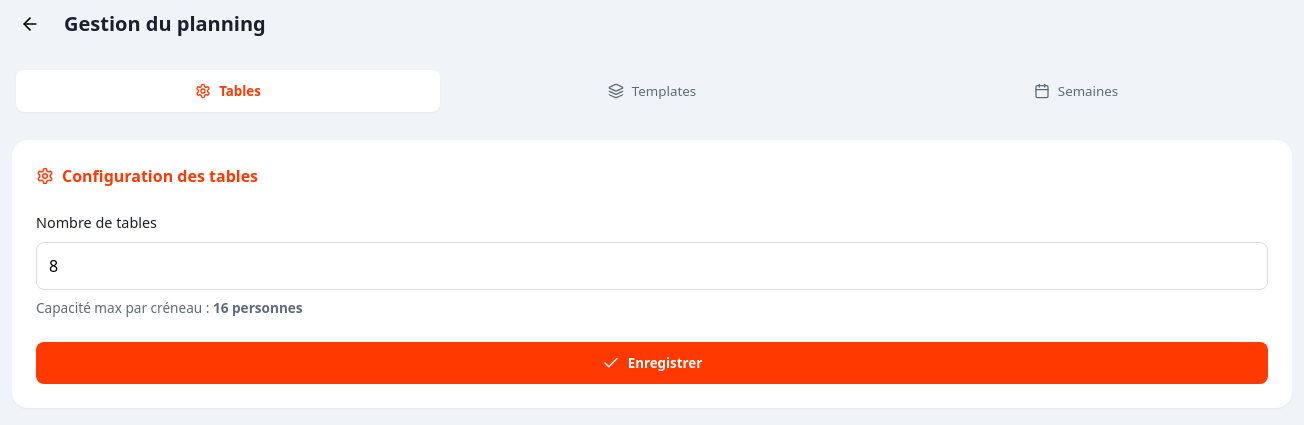
Test case: PlanningSettings › affiche l'onglet Semaines avec le bouton Appliquer
Expected: the button "Tables" is shown, [16,70,440,112]
Click the button "Semaines". click: point(1076, 91)
box: [864,70,1288,112]
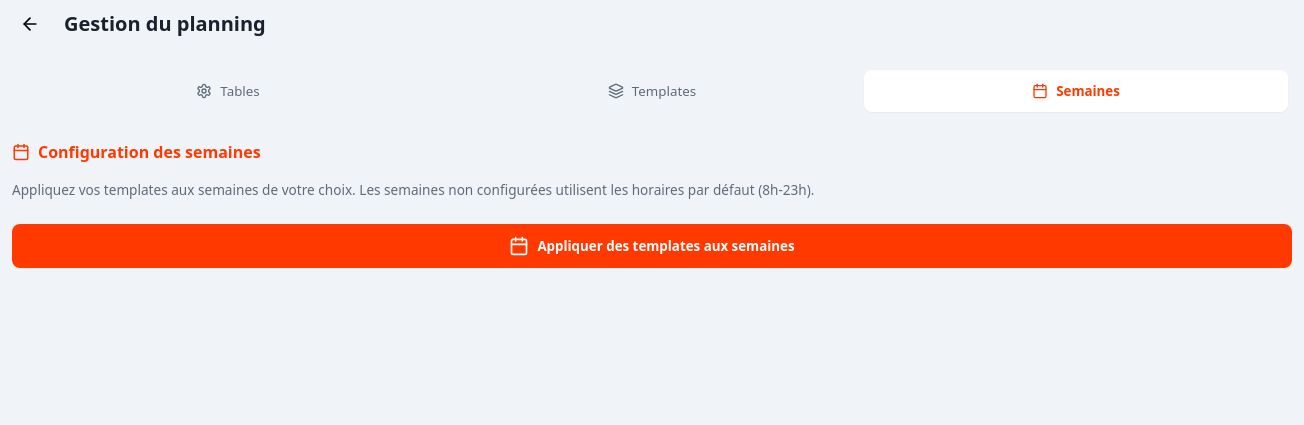
Now the button "Appliquer des templates aux semaines" is shown, box [12,224,1292,268]
